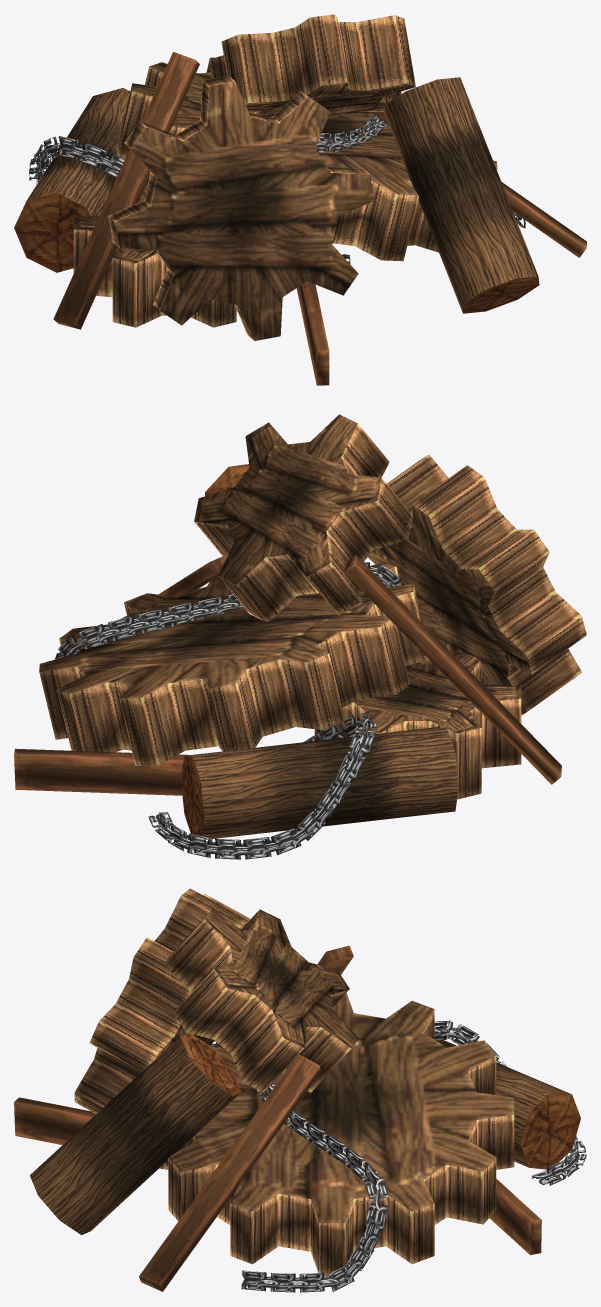
Rendered from INST_SWORDLIGHT_PARTSPILE.obj.
The picture shows the model from 3 angles, top to bottom: view 1: azimuth 30°, elevation 25°; view 2: azimuth 150°, elevation 25°; view 3: azimuth 270°, elevation 25°; orthographic projection. The views are drawn at different scales.
Parts seen in each view (by area): view 1: rtsPile_Lod1_01; view 2: rtsPile_Lod1_01; view 3: rtsPile_Lod1_01.
Part boxes in pixels (left/top/right/bottom): rtsPile_Lod1_01: left=14, top=14, right=586, bottom=385; rtsPile_Lod1_01: left=14, top=414, right=586, bottom=859; rtsPile_Lod1_01: left=14, top=888, right=586, bottom=1292.
Size of the model in its own units: 311 by 178 by 333.
